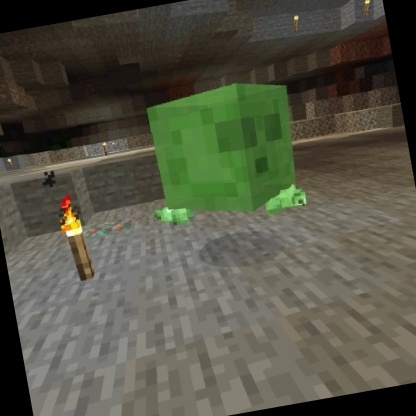slime: (140, 71, 311, 230)
